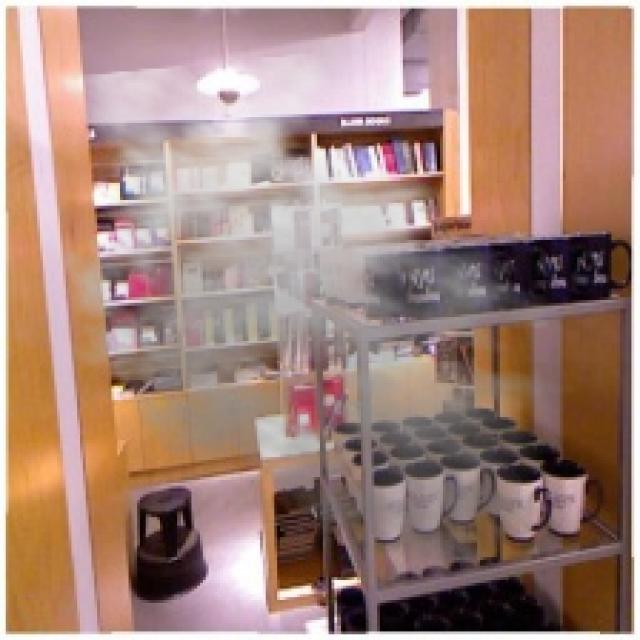smoke: (40, 51, 606, 572)
